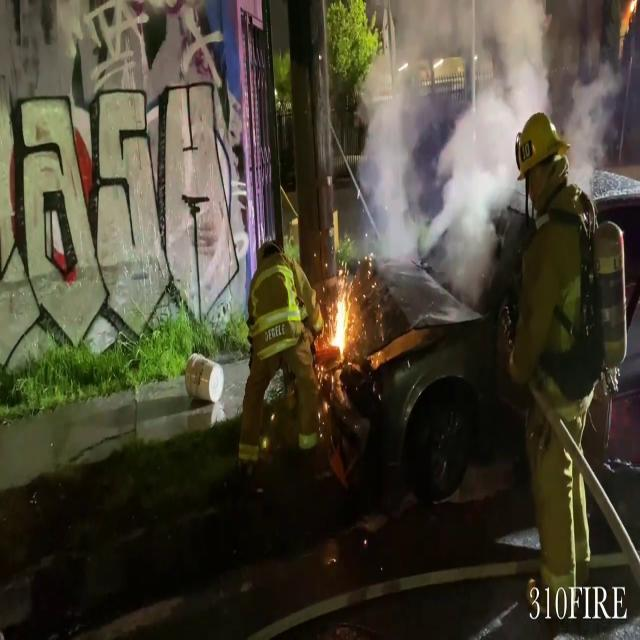Fire: (328, 280, 352, 368)
Smoke: (354, 0, 638, 262)
